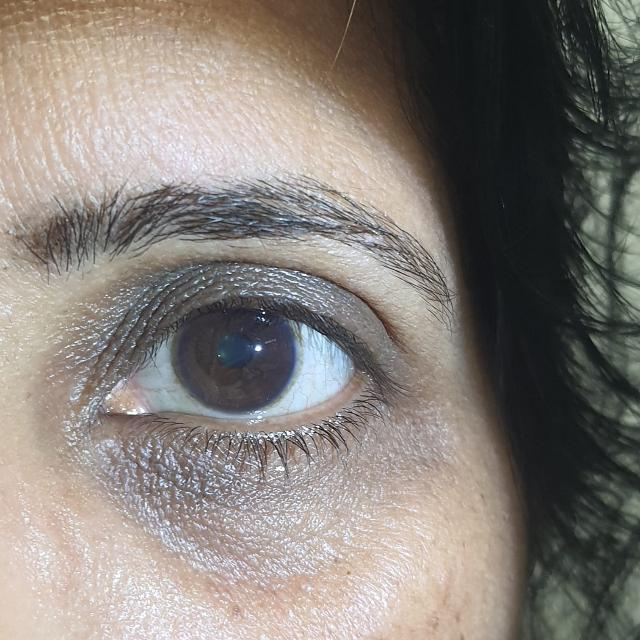eye: (171, 305, 297, 413)
